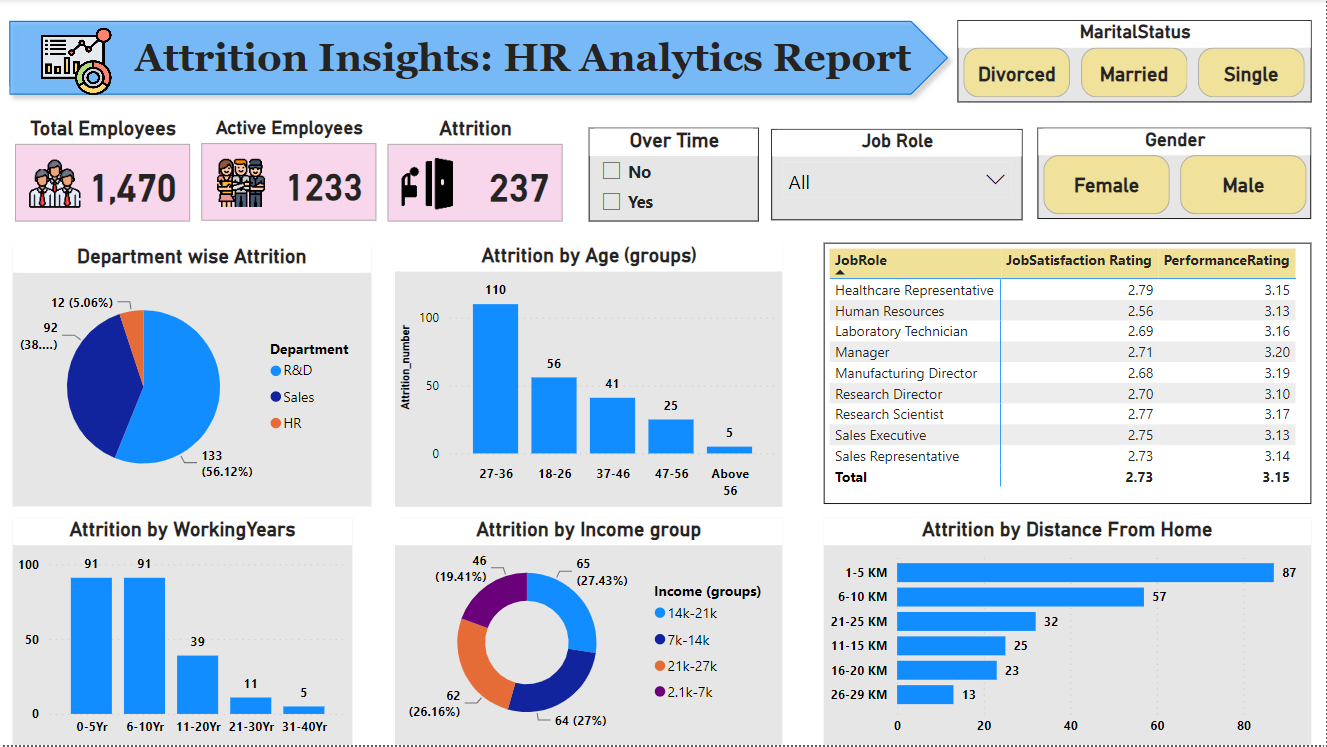

The dashboard page shown, as its layout file describes it:
{"tool":"powerbi","page":{"name":"Page 1","canvas":[1280,720],"ordinal":0},"visuals":[{"type":"shape","box":[0,12.1,923.8,89.2],"z":0},{"type":"image","box":[32.6,21.7,80.8,77.2],"z":1000},{"type":"advancedSlicerVisual","fields":{"Values":["HR-Employee Dataset.Gender"]},"box":[1001,124.2,264.1,88],"z":2000},{"type":"cardVisual","title":"Total Employees","fields":{"Data":["CountNonNull(HR-Employee Dataset.Attrition)"]},"box":[9.5,113.1,179.7,105.9],"z":3000},{"type":"cardVisual","title":"Attrition","fields":{"Data":["Sum(HR-Employee Dataset.Attrition_count)"]},"box":[380.8,113.1,179.7,105.9],"z":4000},{"type":"cardVisual","title":"Active Employees","fields":{"Data":["HR-Employee Dataset.Active_employees"]},"box":[189.2,113.1,191.6,105.9],"z":5000},{"type":"pieChart","title":" Department wise Attrition","fields":{"Category":["HR-Employee Dataset.Department"],"Y":["Sum(HR-Employee Dataset.Attrition_count)"]},"box":[11.9,238,368.9,251.1],"z":6000},{"type":"clusteredColumnChart","title":"Attrition by Age (groups) ","fields":{"Category":["HR-Employee Dataset.Age (groups)"],"Y":["Sum(HR-Employee Dataset.Attrition_count)"]},"box":[380.8,238,384.4,251.1],"z":7000},{"type":"advancedSlicerVisual","fields":{"Values":["HR-Employee Dataset.MaritalStatus"]},"box":[889,20.2,341.6,79.7],"z":8000},{"type":"slicer","title":"Job Role","fields":{"Values":["HR-Employee Dataset.JobRole"]},"box":[749.8,126.1,242.8,88.1],"z":9000},{"type":"pivotTable","fields":{"Rows":["HR-Employee Dataset.JobRole"],"Values":["Avg(HR-Employee Dataset.JobSatisfaction)","Sum(HR-Employee Dataset.Attrition_count)"]},"box":[793.8,238,471.3,251.1],"z":10000},{"type":"slicer","title":"Over Time","fields":{"Values":["HR-Employee Dataset.OverTime"]},"box":[573.6,113.1,166.6,101.2],"z":11000},{"type":"lineClusteredColumnComboChart","title":"Attrition by Working Years ","fields":{"Category":["HR-Employee Dataset.TotalWorkingYears (groups)"],"Y":["Sum(HR-Employee Dataset.Attrition_count)"]},"box":[11.9,501,368.9,210.6],"z":12000},{"type":"donutChart","title":"Attrition by Income group","fields":{"Category":["HR-Employee Dataset.Income (groups)"],"Y":["Sum(HR-Employee Dataset.Attrition_count)"]},"box":[380.8,501,384.4,210.6],"z":13000},{"type":"clusteredBarChart","title":"Attrition by Distance From Home ","fields":{"Category":["HR-Employee Dataset.DistanceFromHome (groups)"],"Y":["Sum(HR-Employee Dataset.Attrition_count)"]},"box":[793.8,501,471.3,210.6],"z":14000}]}

Visuals, with their boxes in screenshot pixels (x1, y1, x2, y2), scaled from the page's 1280x720 canvas onto the 1327x747 screenshot:
shape: box=[0, 13, 958, 105]
image: box=[34, 23, 118, 103]
advancedSlicerVisual - HR-Employee Dataset.Gender: box=[1038, 129, 1312, 220]
"Total Employees" cardVisual: box=[10, 117, 196, 227]
"Attrition" cardVisual: box=[395, 117, 581, 227]
"Active Employees" cardVisual: box=[196, 117, 395, 227]
" Department wise Attrition" pieChart: box=[12, 247, 395, 507]
"Attrition by Age (groups) " clusteredColumnChart: box=[395, 247, 793, 507]
advancedSlicerVisual - HR-Employee Dataset.MaritalStatus: box=[922, 21, 1276, 104]
"Job Role" slicer: box=[777, 131, 1029, 222]
pivotTable - HR-Employee Dataset.JobRole x Avg(HR-Employee Dataset.JobSatisfaction): box=[823, 247, 1312, 507]
"Over Time" slicer: box=[595, 117, 767, 222]
"Attrition by Working Years " lineClusteredColumnComboChart: box=[12, 520, 395, 738]
"Attrition by Income group" donutChart: box=[395, 520, 793, 738]
"Attrition by Distance From Home " clusteredBarChart: box=[823, 520, 1312, 738]
